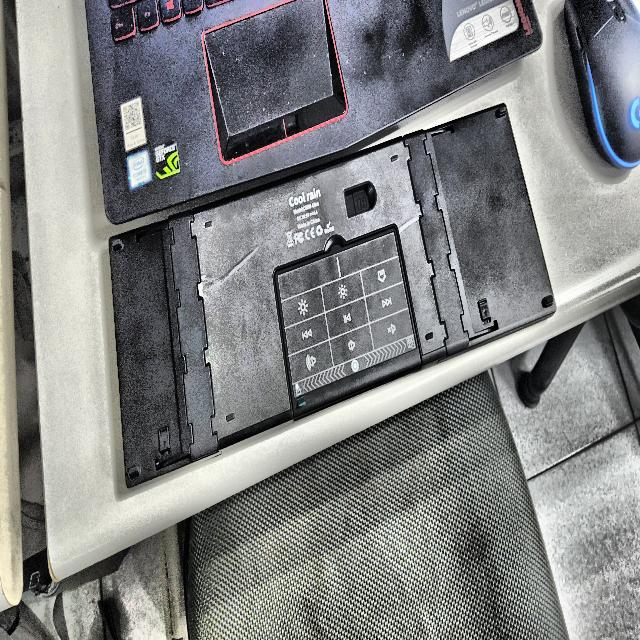laptop: (84, 0, 542, 224)
switchboard: (564, 0, 640, 168)
